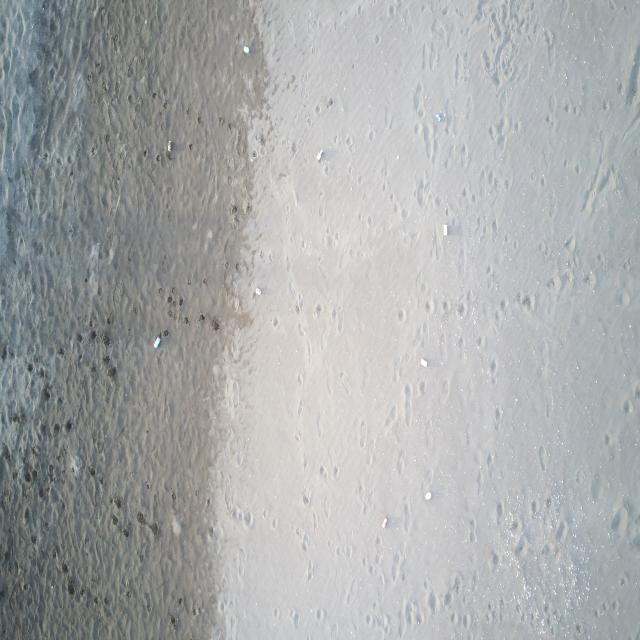tin-and-aluminum-cans: (153, 336, 162, 350), (316, 148, 324, 162), (442, 223, 449, 236), (381, 516, 388, 529), (420, 358, 429, 368), (425, 491, 433, 501), (254, 286, 262, 296), (166, 140, 172, 152), (243, 45, 250, 55), (435, 112, 442, 121)
